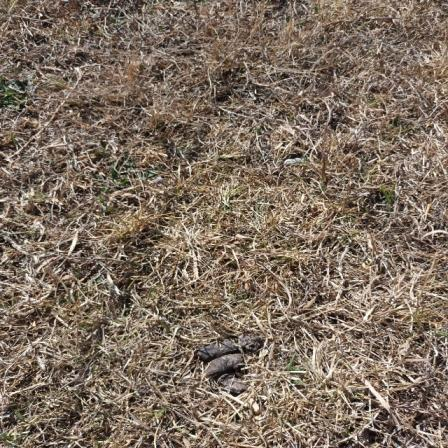dog-poop: (201, 326, 264, 394)
